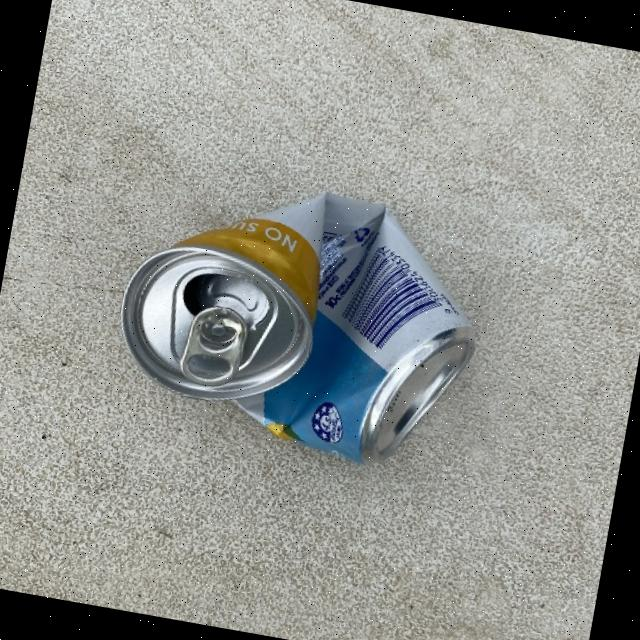metal: (100, 157, 497, 480)
